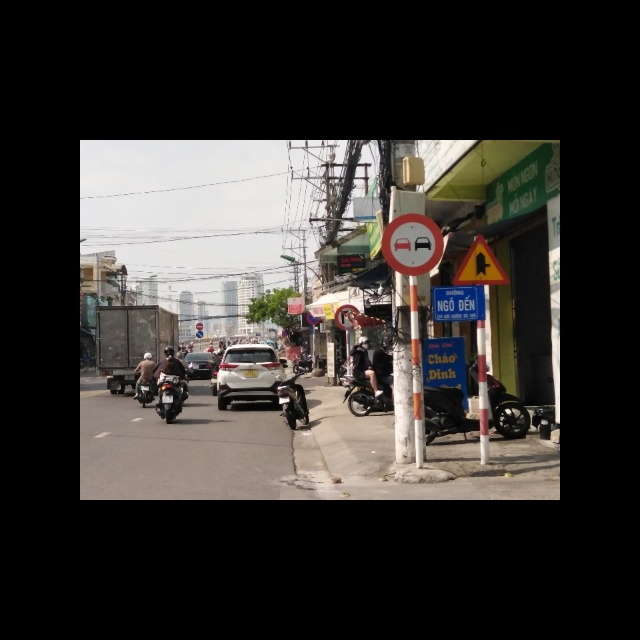Cấm vượt: (382, 213, 445, 277)
Giao nhau với đường không ưu tiên: (452, 233, 510, 286)
